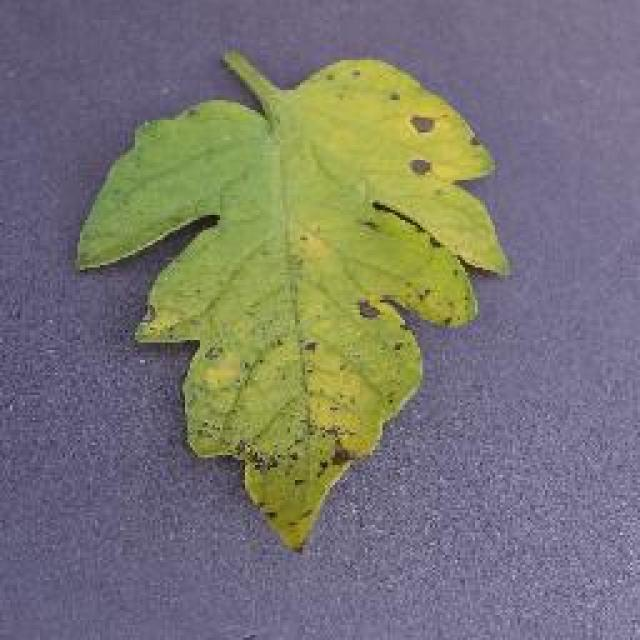Tomato___Septoria_leaf_spot: (75, 52, 505, 545)
